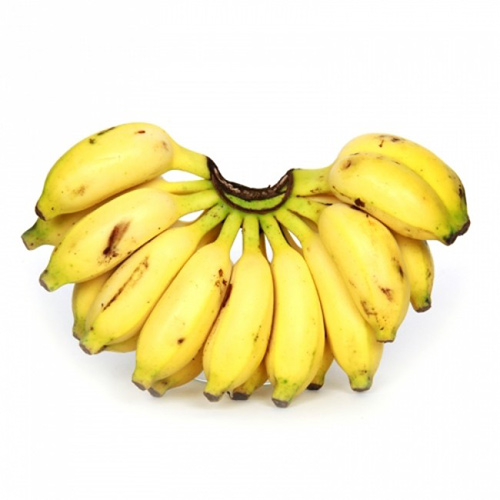banana: (308, 186, 412, 409), (68, 226, 213, 354), (177, 236, 271, 416), (296, 121, 474, 215), (22, 120, 200, 209), (33, 190, 187, 290), (329, 155, 463, 238)
